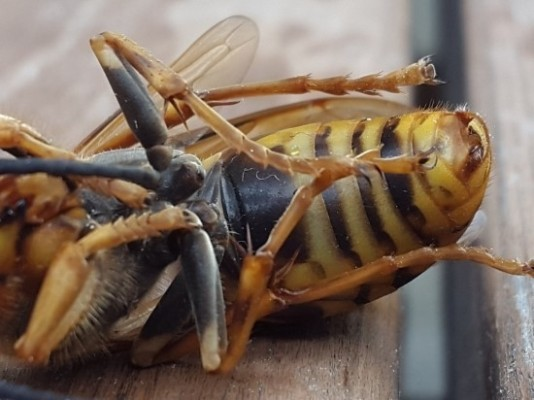asian_giant_hornet: (1, 31, 496, 374)
